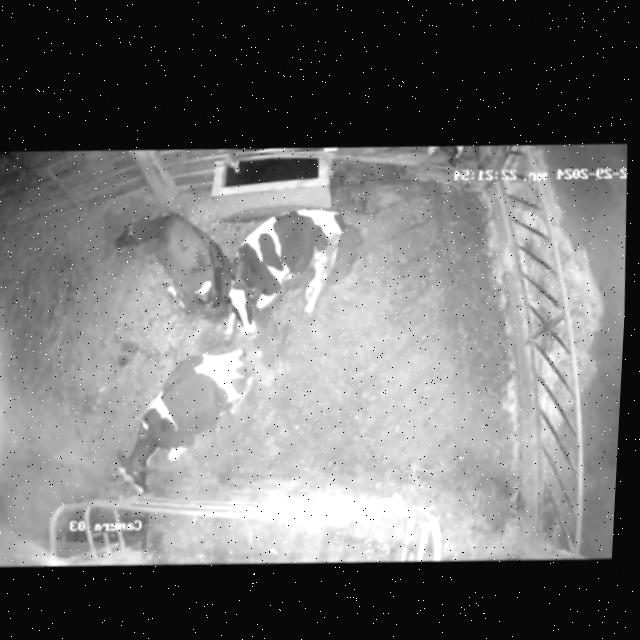lay: (99, 332, 266, 501), (96, 194, 235, 334), (221, 203, 348, 353)
